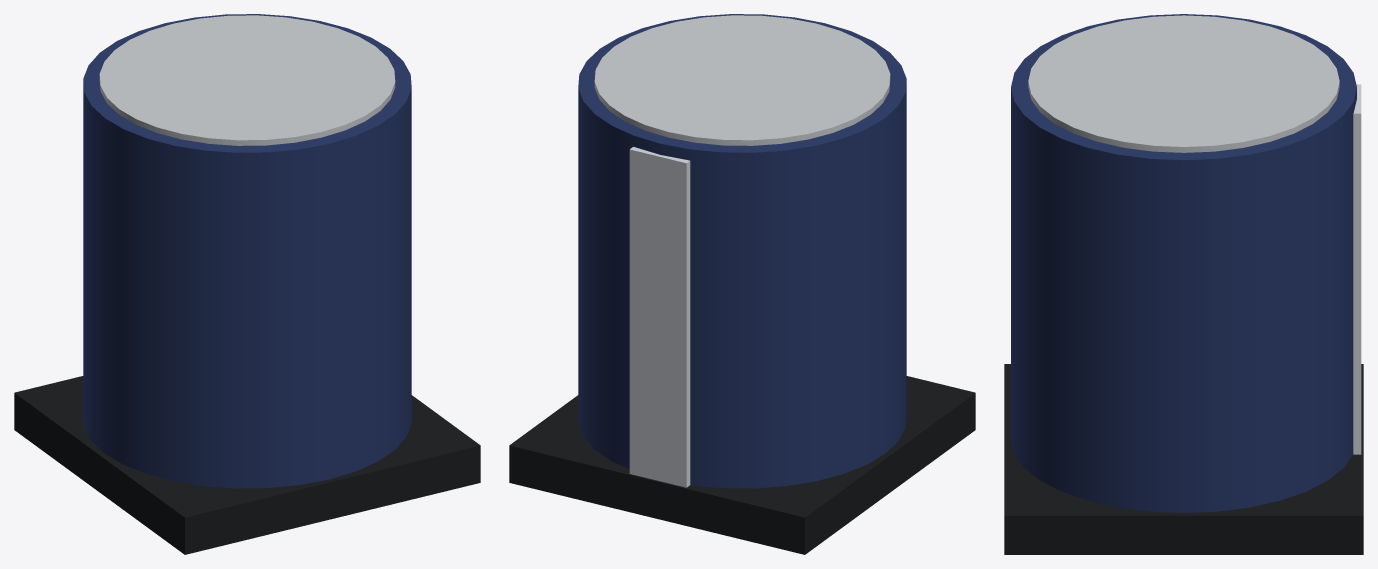
Rendered from CP_Elec_8x10.glb.
3 renders of one model, left to right at view 1: azimuth 30°, elevation 25°; view 2: azimuth 150°, elevation 25°; view 3: azimuth 270°, elevation 25°, orthographic. The views are drawn at different scales.
Visible parts, largest first — view 1: Sleeve, Vent, Base; view 2: Sleeve, Vent, Base, Polarity; view 3: Sleeve, Vent, Base, Polarity.
Boxes of the visible parts, left/top/right/bottom form: Sleeve: left=83, top=14, right=411, bottom=488; Vent: left=99, top=15, right=395, bottom=145; Base: left=14, top=376, right=480, bottom=554; Sleeve: left=578, top=14, right=906, bottom=488; Vent: left=594, top=15, right=890, bottom=145; Base: left=509, top=376, right=975, bottom=554; Polarity: left=629, top=146, right=690, bottom=487; Sleeve: left=1011, top=14, right=1356, bottom=512; Vent: left=1028, top=15, right=1339, bottom=152; Base: left=1004, top=364, right=1363, bottom=554; Polarity: left=1353, top=84, right=1361, bottom=454.
Bounding box in the file's own units: 0.0083 × 0.0102 × 0.0083.
